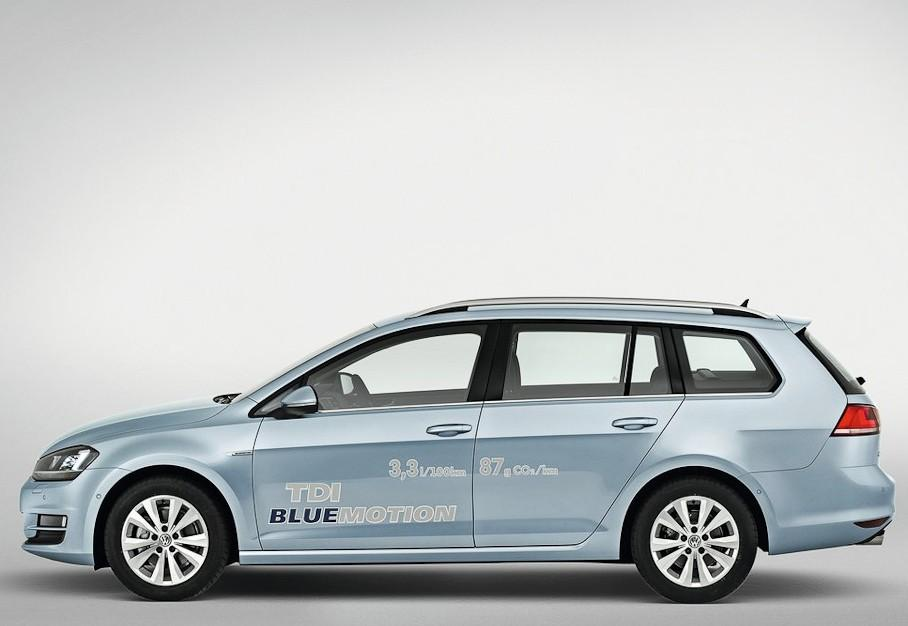Wagon: (21, 297, 894, 604)
